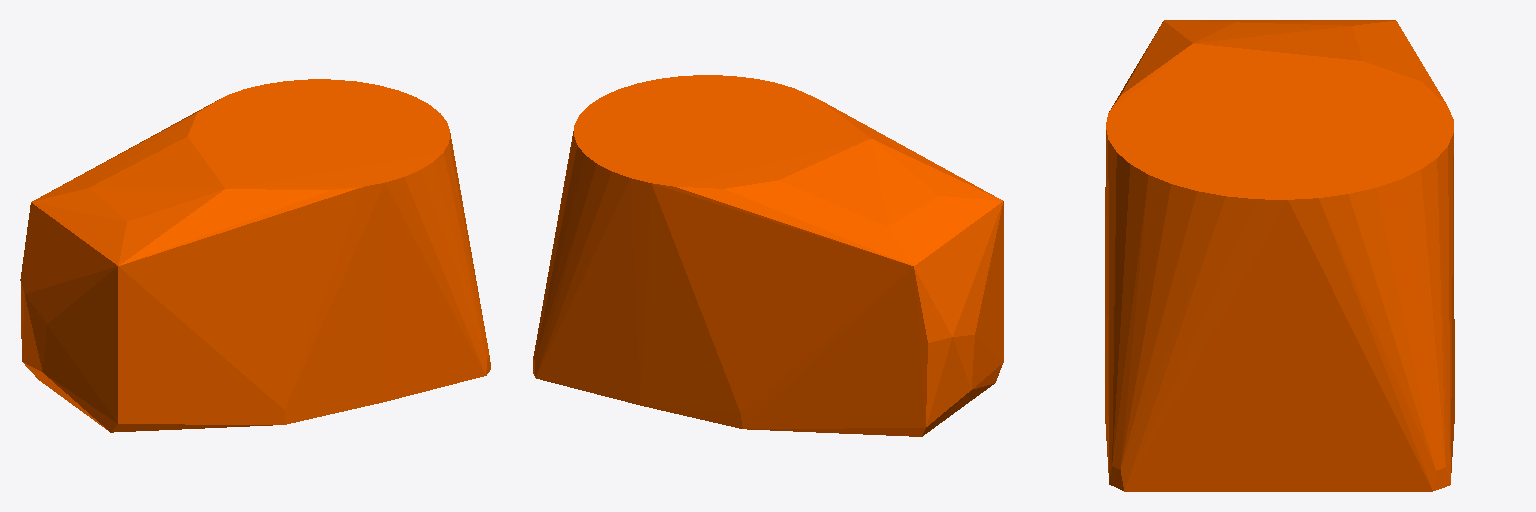
robot.urdf — irb_120:
<?xml version="1.0" ?>
<!-- =================================================================================== -->
<!-- |    This document was autogenerated by xacro from irb_120.xacro                 | -->
<!-- |    EDITING THIS FILE BY HAND IS NOT RECOMMENDED                                 | -->
<!-- =================================================================================== -->
<robot name="irb_120" xmlns:xacro="http://ros.org/wiki/xacro">
  <link name="base_link">
    <visual>
      <origin rpy="0 0 0" xyz="0 0 0"/>
      <geometry>
        <mesh filename="package://abb_common/meshes/irb_120/visual/base_link.stl"/>
      </geometry>
      <material name="abb_orange">
        <color rgba="1 0.43 0 1"/>
      </material>
    </visual>
    <collision>
      <geometry>
        <mesh filename="package://abb_common/meshes/irb_120/collision/base_link.stl"/>
      </geometry>
      <material name="yellow">
        <color rgba="0 1 1 1"/>
      </material>
    </collision>
  </link>
  <link name="link_1">
    <visual>
      <origin rpy="0 0 0" xyz="0 0 0"/>
      <geometry>
        <mesh filename="package://abb_common/meshes/irb_120/visual/link_1.stl"/>
      </geometry>
      <material name="abb_orange"/>
    </visual>
    <collision>
      <origin rpy="0 0 0" xyz="0 0 0"/>
      <geometry>
        <mesh filename="package://abb_common/meshes/irb_120/collision/link_1.stl"/>
      </geometry>
      <material name="yellow"/>
    </collision>
  </link>
  <link name="link_2">
    <visual>
      <origin rpy="0 0 0" xyz="0 0 0"/>
      <geometry>
        <mesh filename="package://abb_common/meshes/irb_120/visual/link_2.stl"/>
      </geometry>
      <material name="abb_orange"/>
    </visual>
    <collision>
      <origin rpy="0 0 0" xyz="0 0 0"/>
      <geometry>
        <mesh filename="package://abb_common/meshes/irb_120/collision/link_2.stl"/>
      </geometry>
      <material name="yellow"/>
    </collision>
  </link>
  <link name="link_3">
    <visual>
      <origin rpy="0 0 0" xyz="0 0 0"/>
      <geometry>
        <mesh filename="package://abb_common/meshes/irb_120/visual/link_3.stl"/>
      </geometry>
      <material name="abb_orange"/>
    </visual>
    <collision>
      <origin rpy="0 0 0" xyz="0 0 0"/>
      <geometry>
        <mesh filename="package://abb_common/meshes/irb_120/collision/link_3.stl"/>
      </geometry>
      <material name="yellow"/>
    </collision>
  </link>
  <link name="link_4">
    <visual>
      <origin rpy="0 0 0" xyz="0 0 0"/>
      <geometry>
        <mesh filename="package://abb_common/meshes/irb_120/visual/link_4.stl"/>
      </geometry>
      <material name="abb_orange"/>
    </visual>
    <collision>
      <origin rpy="0 0 0" xyz="0 0 0"/>
      <geometry>
        <mesh filename="package://abb_common/meshes/irb_120/collision/link_4.stl"/>
      </geometry>
      <material name="yellow"/>
    </collision>
  </link>
  <link name="link_5">
    <visual>
      <origin rpy="0 0 0" xyz="0 0 0"/>
      <geometry>
        <mesh filename="package://abb_common/meshes/irb_120/visual/link_5.stl"/>
      </geometry>
      <material name="abb_orange"/>
    </visual>
    <collision>
      <origin rpy="0 0 0" xyz="0 0 0"/>
      <geometry>
        <mesh filename="package://abb_common/meshes/irb_120/collision/link_5.stl"/>
      </geometry>
      <material name="yellow"/>
    </collision>
  </link>
  <link name="link_6">
    <visual>
      <origin rpy="0 0 0" xyz="0 0 0"/>
      <geometry>
        <mesh filename="package://abb_common/meshes/irb_120/visual/link_6.stl"/>
      </geometry>
      <material name="abb_orange"/>
    </visual>
    <collision>
      <origin rpy="0 0 0" xyz="0 0 0"/>
      <geometry>
        <mesh filename="package://abb_common/meshes/irb_120/collision/link_6.stl"/>
      </geometry>
      <material name="yellow"/>
    </collision>
  </link>
  <link name="tool0"/>
  <joint name="joint_1" type="revolute">
    <origin rpy="0 0 0" xyz="0 0 0"/>
    <parent link="base_link"/>
    <child link="link_1"/>
    <axis xyz="0 0 1"/>
    <limit effort="0" lower="-3.1416" upper="3.1416" velocity="2.618"/>
    <calibration falling="0" rising="0"/>
    <dynamics damping="0" friction="0"/>
  </joint>
  <joint name="joint_2" type="revolute">
    <origin rpy="0 0 0" xyz="0 0 0.29"/>
    <parent link="link_1"/>
    <child link="link_2"/>
    <axis xyz="0 1 0"/>
    <limit effort="0" lower="-1.7453" upper="1.9199" velocity="2.618"/>
    <calibration falling="0" rising="0"/>
    <dynamics damping="0" friction="0"/>
  </joint>
  <joint name="joint_3" type="revolute">
    <origin rpy="0 0 0" xyz="0 0 0.27"/>
    <parent link="link_2"/>
    <child link="link_3"/>
    <axis xyz="0 1 0"/>
    <limit effort="0" lower="-1.0472" upper="1.1345" velocity="2.618"/>
    <calibration falling="0" rising="0"/>
    <dynamics damping="0" friction="0"/>
  </joint>
  <joint name="joint_4" type="revolute">
    <origin rpy="0 0 0" xyz="0 0 0.07"/>
    <parent link="link_3"/>
    <child link="link_4"/>
    <axis xyz="1 0 0"/>
    <limit effort="0" lower="-3.49" upper="3.49" velocity="6.2832"/>
    <calibration falling="0" rising="0"/>
    <dynamics damping="0" friction="0"/>
  </joint>
  <joint name="joint_5" type="revolute">
    <origin rpy="0 0 0" xyz="0.302 0 0"/>
    <parent link="link_4"/>
    <child link="link_5"/>
    <axis xyz="0 1 0"/>
    <limit effort="0" lower="-2.0944" upper="2.0944" velocity="6.2832"/>
    <calibration falling="0" rising="0"/>
    <dynamics damping="0" friction="0"/>
  </joint>
  <joint name="joint_6" type="revolute">
    <origin rpy="0 0 0" xyz="0.072 0 0"/>
    <parent link="link_5"/>
    <child link="link_6"/>
    <axis xyz="1 0 0"/>
    <limit effort="0" lower="-6.9813" upper="6.9813" velocity="7.854"/>
    <calibration falling="0" rising="0"/>
    <dynamics damping="0" friction="0"/>
  </joint>
  <joint name="joint_6-tool0" type="fixed">
    <parent link="link_6"/>
    <child link="tool0"/>
    <origin rpy="0 0 0" xyz="0 0 0"/>
  </joint>
</robot>

--- Render facts (derived) ---
3 views of the same robot in one strip: view 1: azimuth 30°, elevation 25°; view 2: azimuth 150°, elevation 25°; view 3: azimuth 270°, elevation 25° (orthographic).
Model irb_120 with 8 links and 7 joints (6 revolute, 1 fixed), rooted at base_link, posed all joints at 0.
Links seen in each view (by area): view 1: base_link; view 2: base_link; view 3: base_link.
Boxes of the visible links, box(x1,y1,x2,y2) form: base_link: box(20, 79, 490, 432); base_link: box(533, 75, 1003, 436); base_link: box(1105, 20, 1454, 491).
Bounding box of the posed robot: 0.3231 × 0.1933 × 0.1785 m (x, y, z).
Meshes: 7 distinct files referenced, 1 mesh visuals loaded (1 binary STL); not drawn: 6 (reference not matched to a file when rendering).